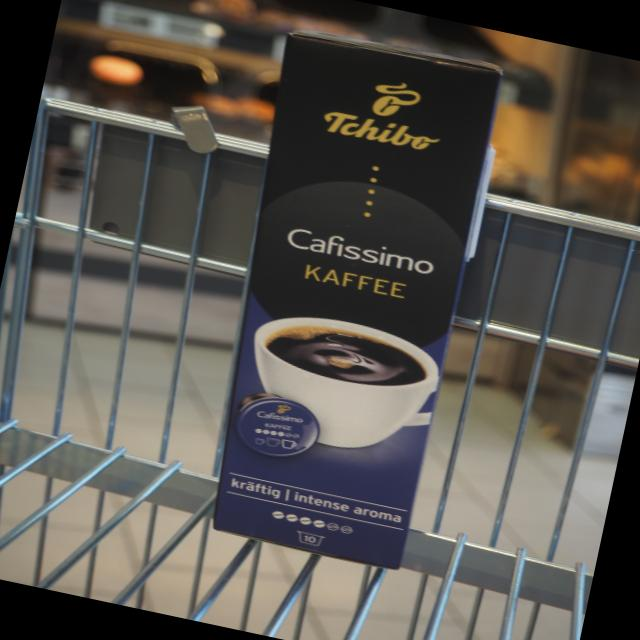Simo Kaffee Kraft: (208, 27, 506, 573)
